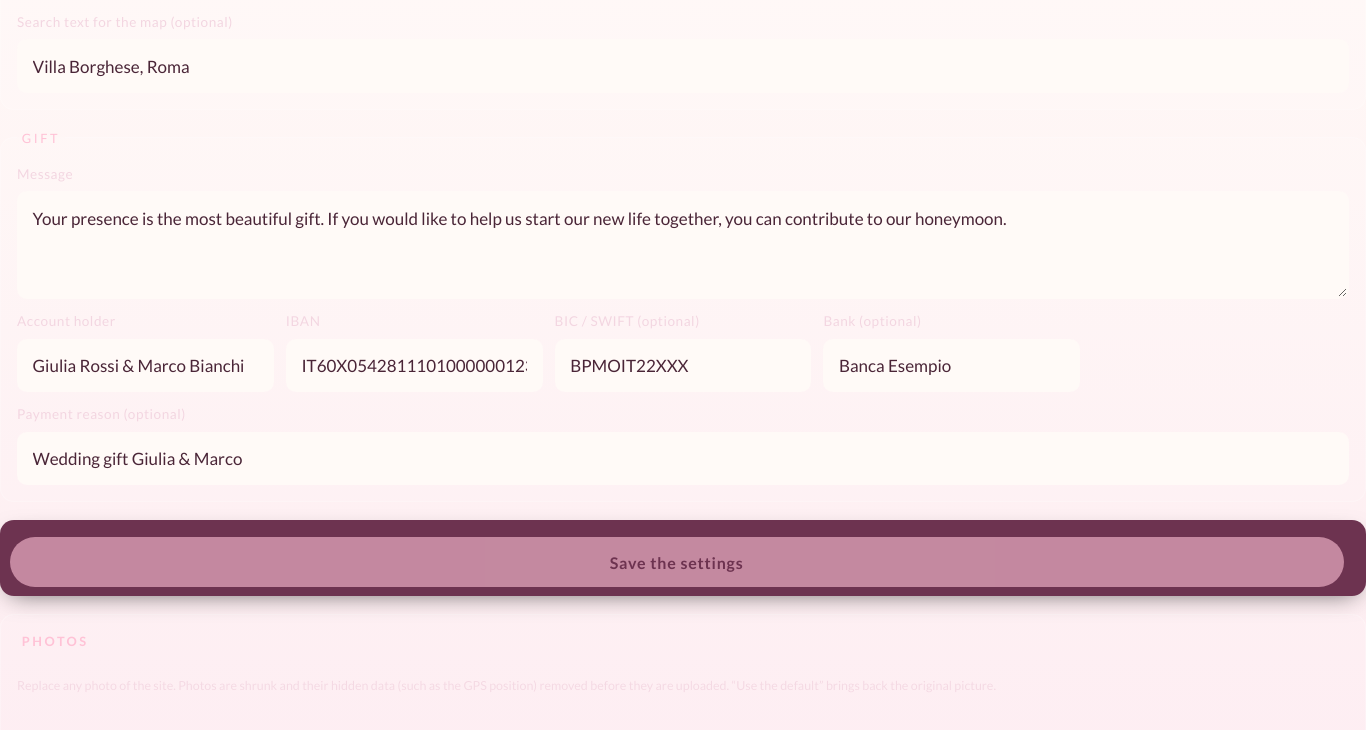
Test: site settings (super admin) › checks the IBAN, the time zone and the required fields before saving
The image size is (1366, 730).
(page scrolled)
Replace the text in the field labelled "IBAN" with "IT60X0542811101000000123457" at (414,366), box [286,339,543,392]
(page scrolled)
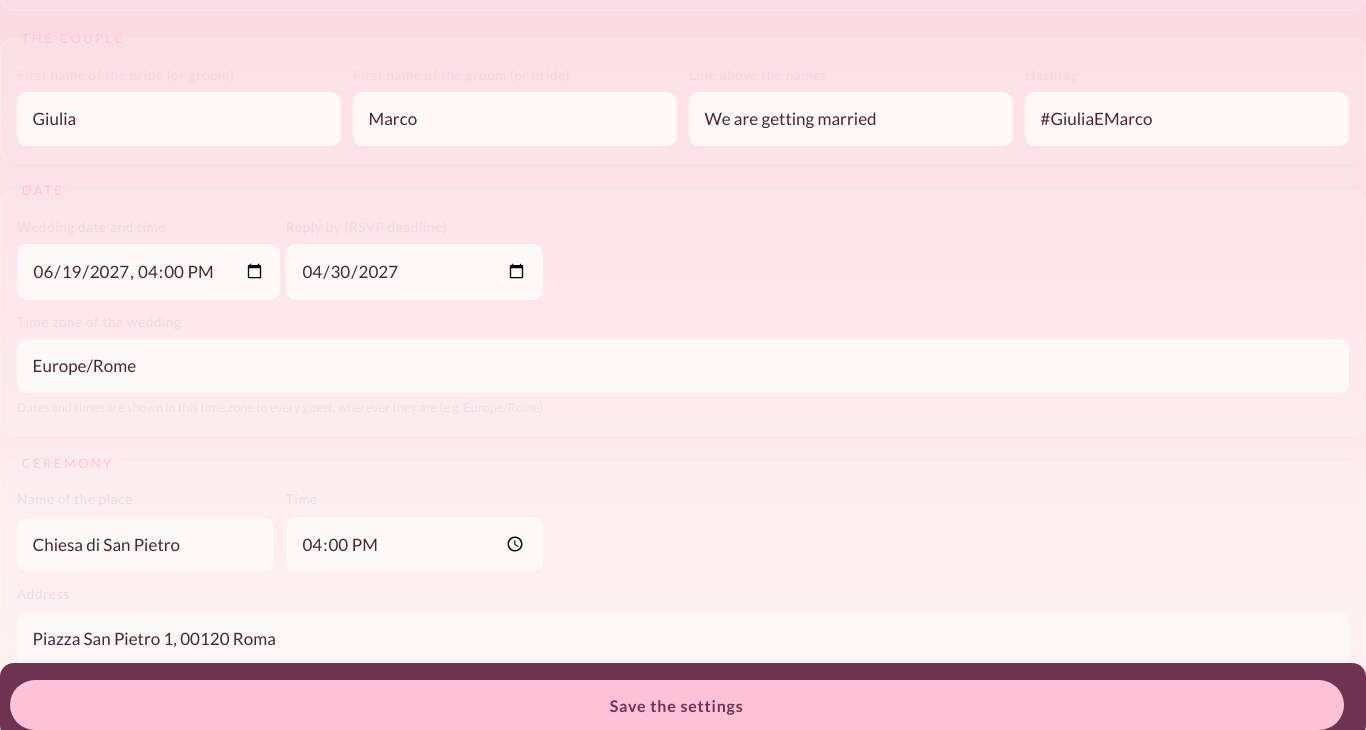
Replace the text in the field labelled "Time zone of the wedding" with "Europe/Atlantis" at (683,366), box [17,339,1349,393]
(page scrolled)
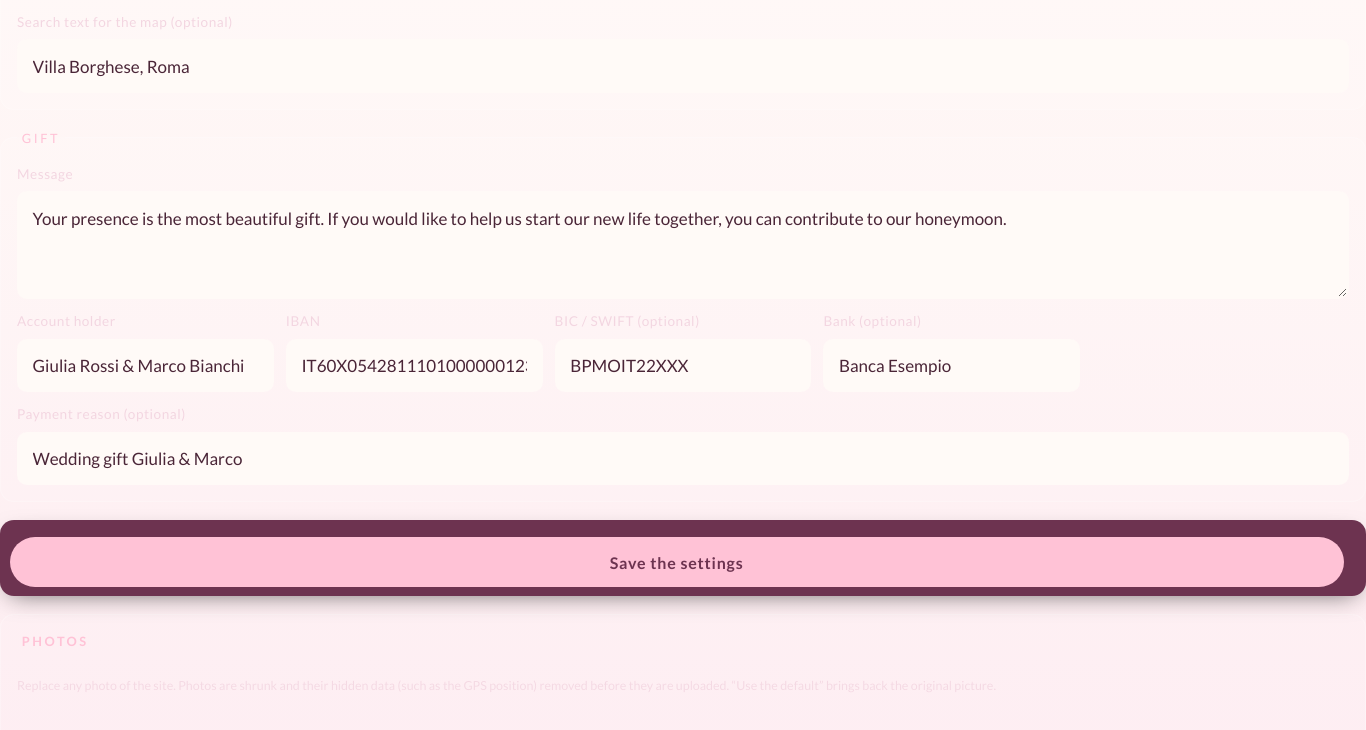
Clear the field labelled "Account holder" at (145,366), box [17,339,274,392]
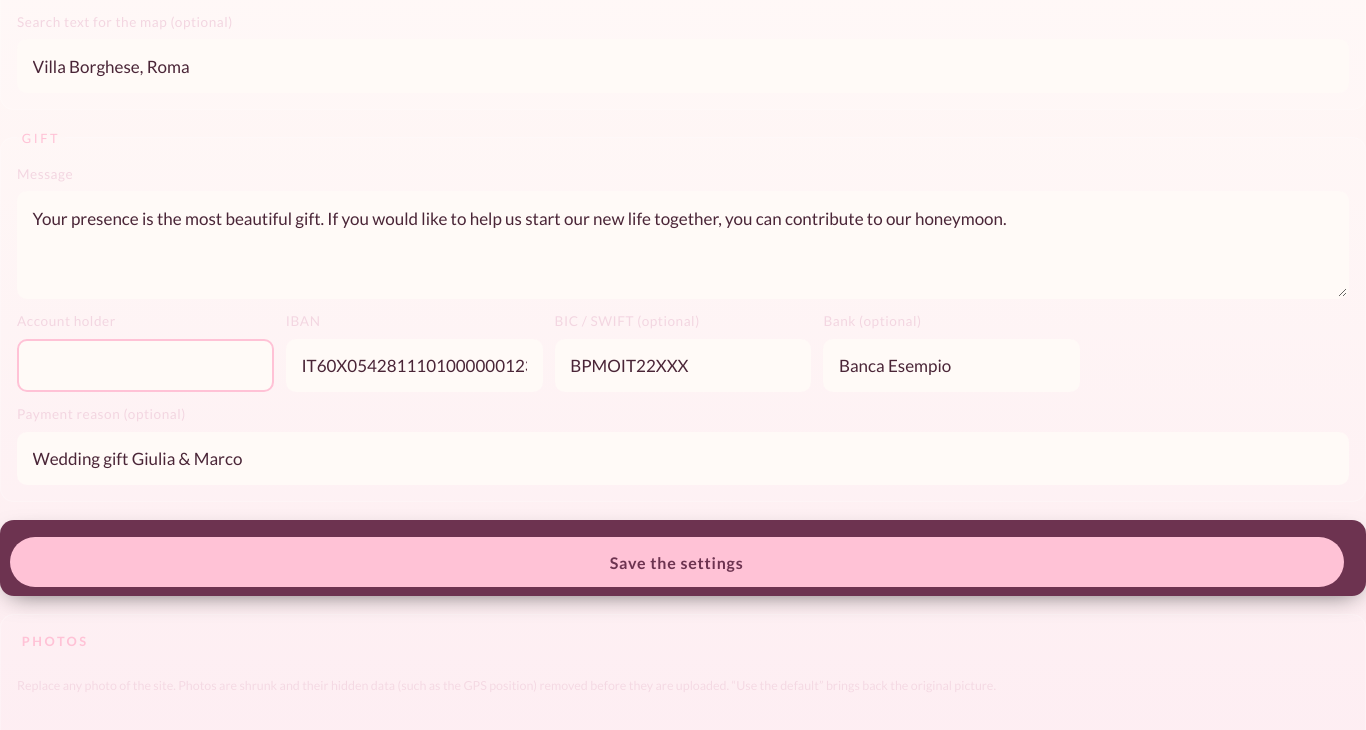
Click the button "Save the settings" at (677,562), box [10,537,1344,587]
(page scrolled)
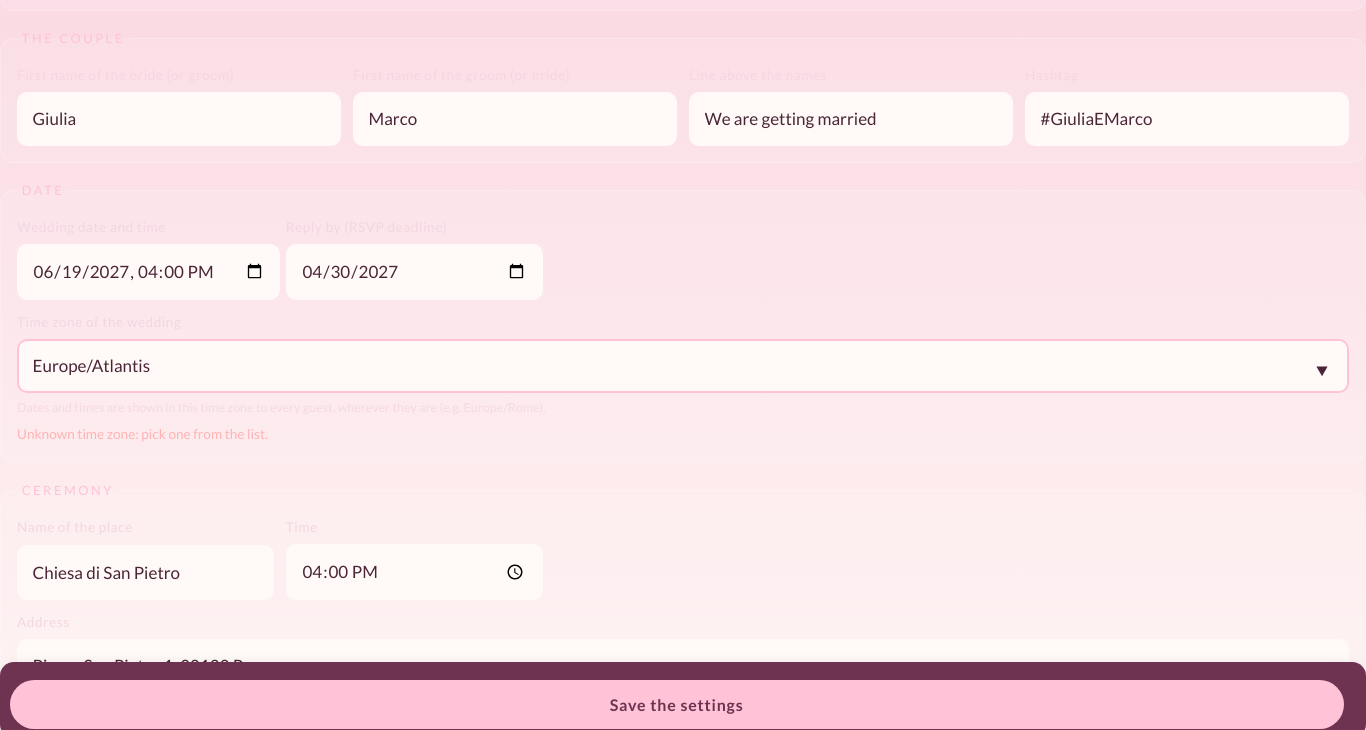
Check: the text "Unknown time zone: pick one from the list." is shown, box [17,426,268,442]
